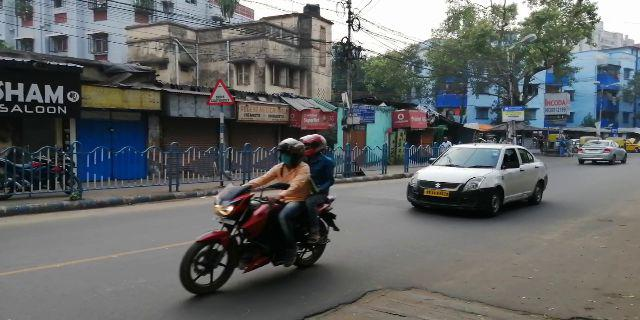Bus: (405, 143, 550, 209)
Motorbike: (178, 135, 345, 292), (581, 142, 623, 165)
